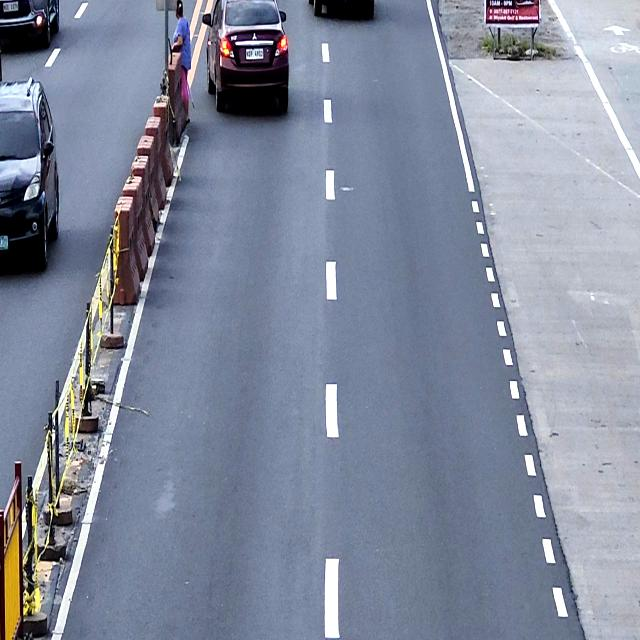Car: (0, 77, 60, 273), (202, 0, 289, 116), (0, 0, 61, 52)
License-Plate: (246, 48, 264, 60), (3, 2, 20, 14), (0, 235, 9, 250)
